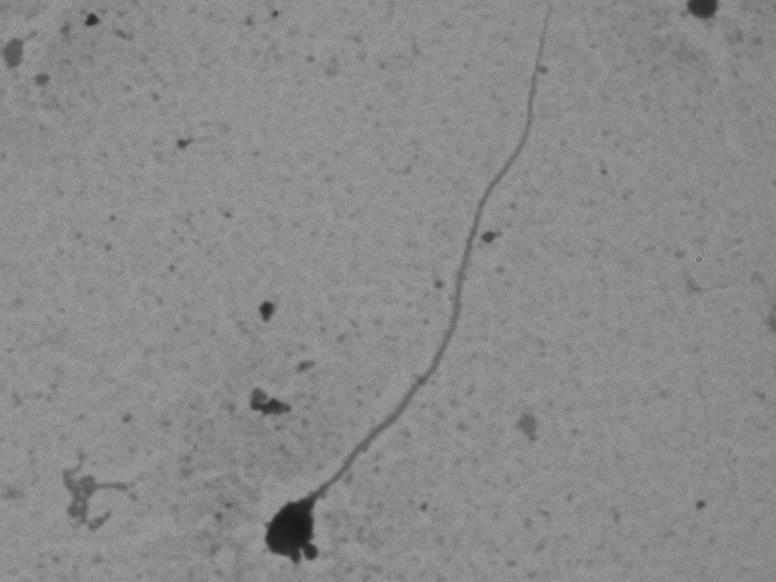Abnormal: (253, 8, 592, 570)
